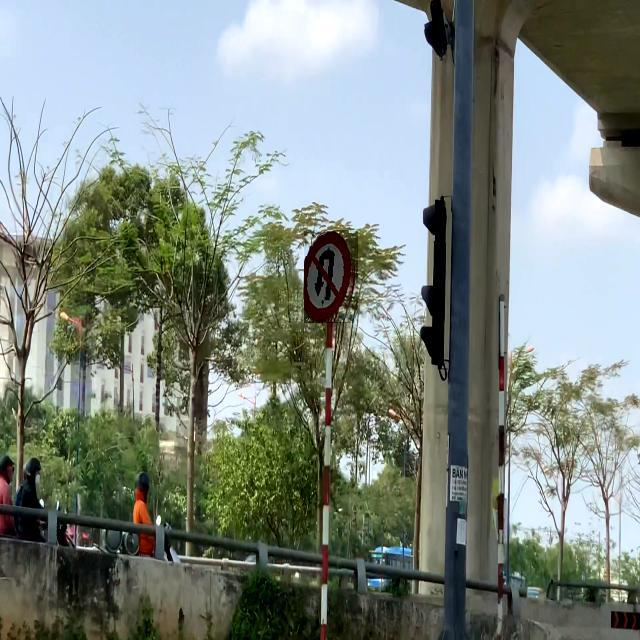P-124a: (305, 230, 359, 323)
